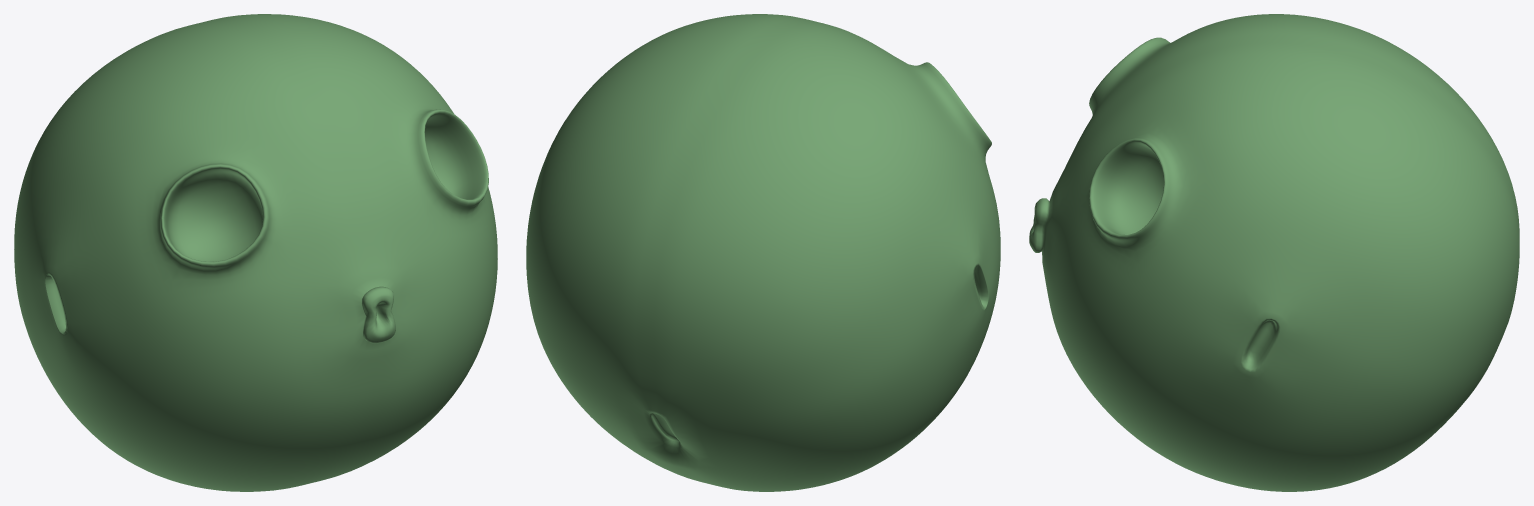
File: puffer_bald_02.fbx
The picture shows the model from 3 angles, left to right: view 1: azimuth 30°, elevation 25°; view 2: azimuth 150°, elevation 25°; view 3: azimuth 270°, elevation 25°; orthographic projection.
Parts seen in each view (by area): view 1: pufferFish_highPoly1; view 2: pufferFish_highPoly1; view 3: pufferFish_highPoly1.
Boxes of the visible parts, x1,y1,x2,y2 form: pufferFish_highPoly1: (14,14,497,491); pufferFish_highPoly1: (526,14,1000,491); pufferFish_highPoly1: (1029,14,1519,491).
Bounding box in the file's own units: 2.01 × 1.98 × 2.05.
